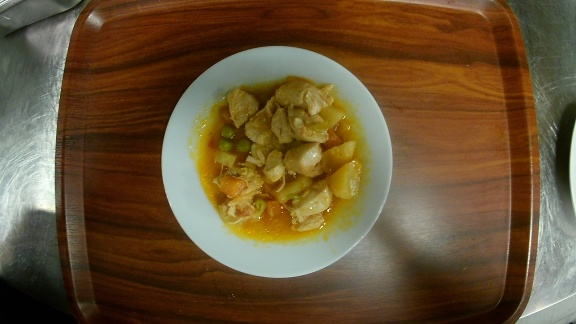bezelyelitavuk: (160, 46, 395, 280)
